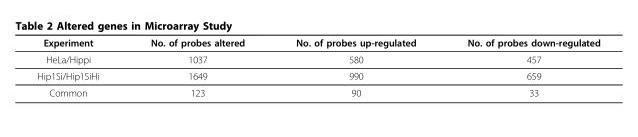table: (36, 36, 599, 97)
table column: (269, 36, 441, 97), (441, 36, 599, 97), (124, 36, 269, 97), (36, 36, 124, 97)
table column header: (36, 36, 599, 50)
table row: (36, 50, 599, 67), (36, 67, 599, 84), (36, 36, 599, 50), (36, 84, 599, 97)
